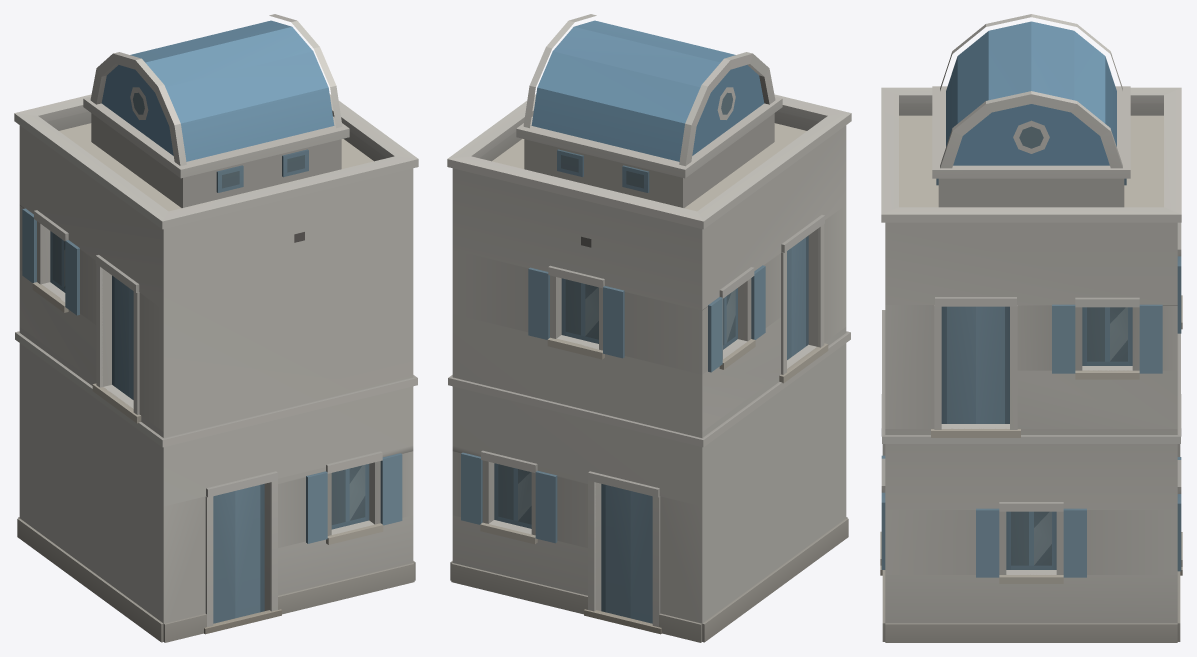
The model's file is dome2.lod1.glb.
3 renders of one model, left to right at view 1: azimuth 30°, elevation 25°; view 2: azimuth 150°, elevation 25°; view 3: azimuth 270°, elevation 25°, orthographic.
Bounding box in the file's own units: 4.43 × 8.5 × 4.43.
